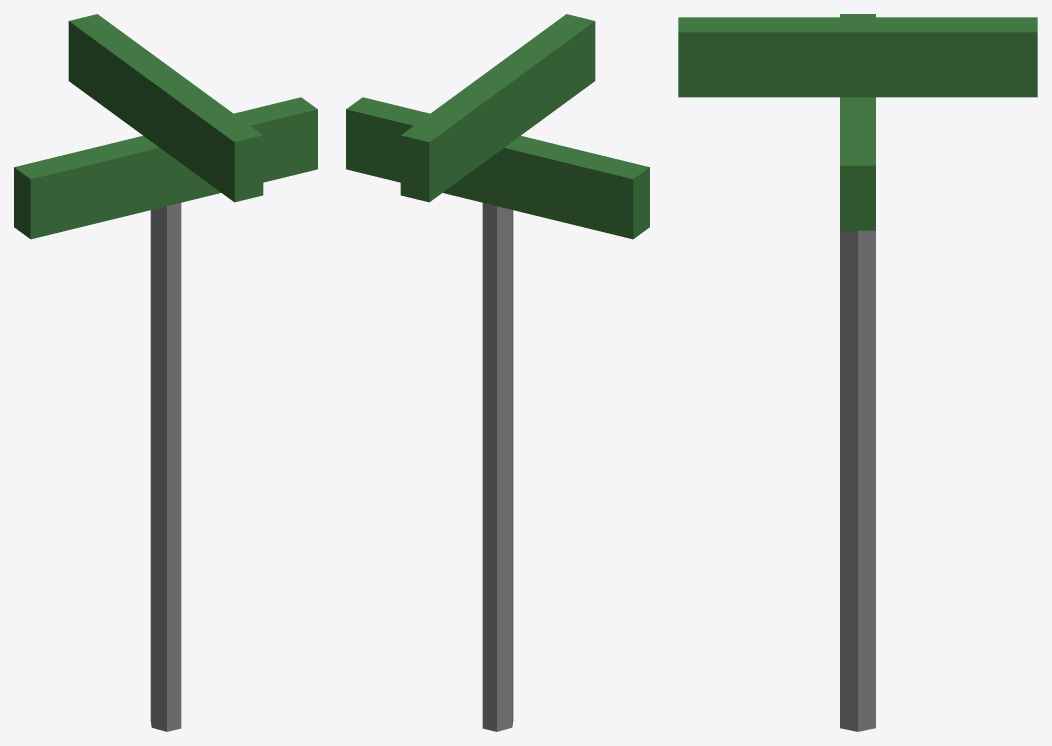
Rendered from street-sign.glb.
3 views of the same model, side by side, from view 1: azimuth 30°, elevation 25°; view 2: azimuth 150°, elevation 25°; view 3: azimuth 270°, elevation 25° (orthographic). The views are drawn at different scales.
Visible parts, largest first — view 1: Street Sign 2 A; view 2: Street Sign 2 A; view 3: Street Sign 2 A.
Part boxes in pixels (x1,y1,x2,y2): Street Sign 2 A: (14,14,317,731); Street Sign 2 A: (346,14,649,731); Street Sign 2 A: (678,14,1037,731).
Bounding box in the file's own units: 2 × 4.3 × 2.
1 material, 1 textured.
